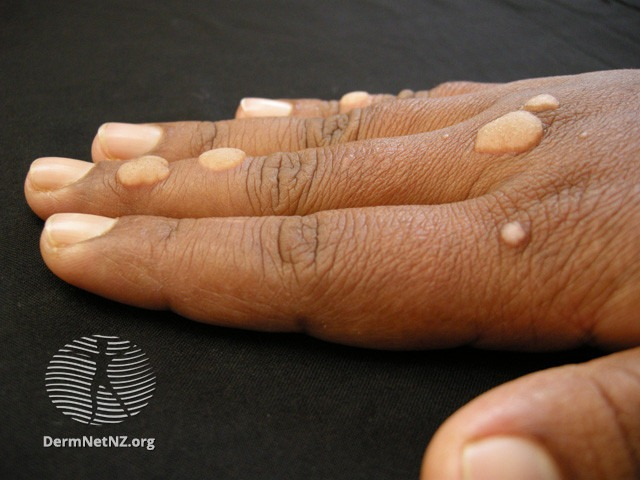Warts: (472, 107, 542, 165), (117, 149, 174, 190), (492, 209, 535, 251), (339, 80, 375, 117), (524, 89, 562, 121)
